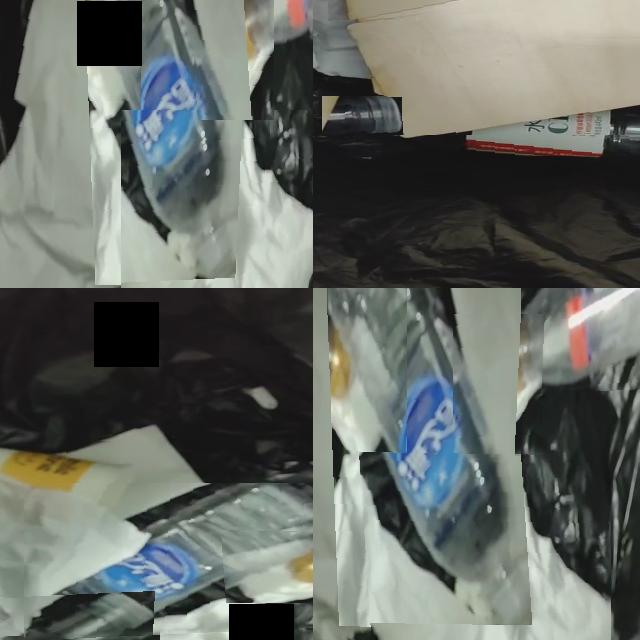bottle: (324, 288, 521, 621), (24, 483, 313, 640), (89, 0, 243, 282), (500, 288, 640, 397), (466, 112, 640, 156), (12, 597, 160, 640), (228, 0, 313, 59), (322, 96, 398, 136)
carton: (351, 0, 640, 135)
dixie_cup: (0, 447, 133, 514)
paper: (370, 454, 611, 640), (0, 0, 134, 288), (121, 110, 313, 288), (313, 288, 398, 640), (0, 477, 151, 636), (63, 426, 211, 522), (453, 314, 542, 458), (193, 0, 274, 120), (223, 541, 313, 603), (313, 0, 365, 78)
